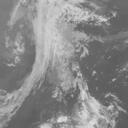cyclone: (26, 25, 76, 84)
